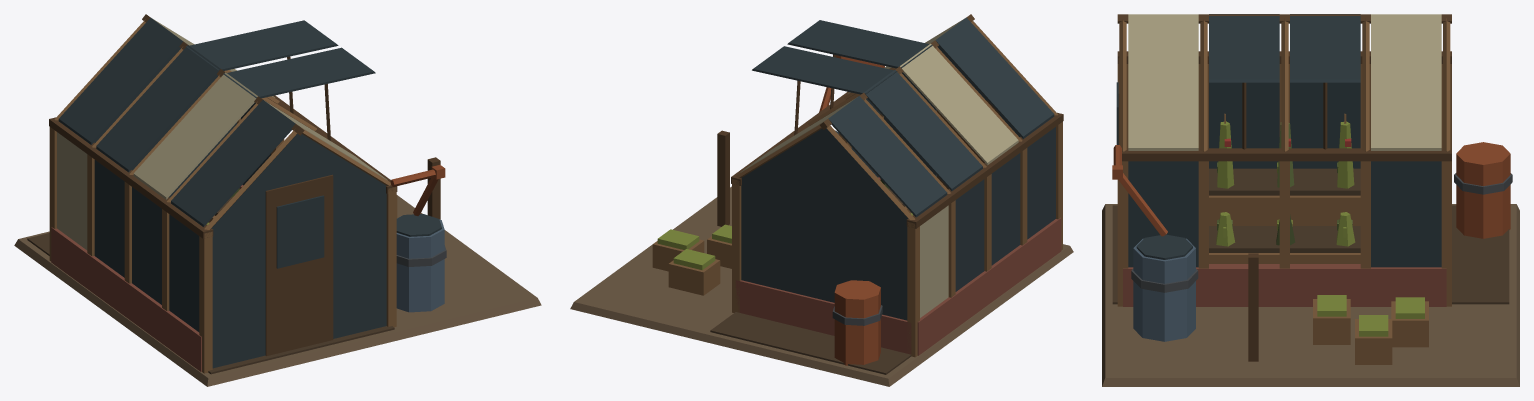
The model's file is greenhouse_l1.glb.
The picture shows the model from 3 angles, left to right: view 1: azimuth 30°, elevation 25°; view 2: azimuth 150°, elevation 25°; view 3: azimuth 270°, elevation 25°; orthographic projection. The views are drawn at different scales.
Visible parts, largest first — view 1: greenhouse_l1_mesh; view 2: greenhouse_l1_mesh; view 3: greenhouse_l1_mesh.
Part boxes in pixels (x1,y1,x2,y2): greenhouse_l1_mesh: [14, 14, 541, 386]; greenhouse_l1_mesh: [570, 14, 1073, 386]; greenhouse_l1_mesh: [1102, 14, 1519, 386].
Bounding box in the file's own units: 4 × 2.63 × 4.
